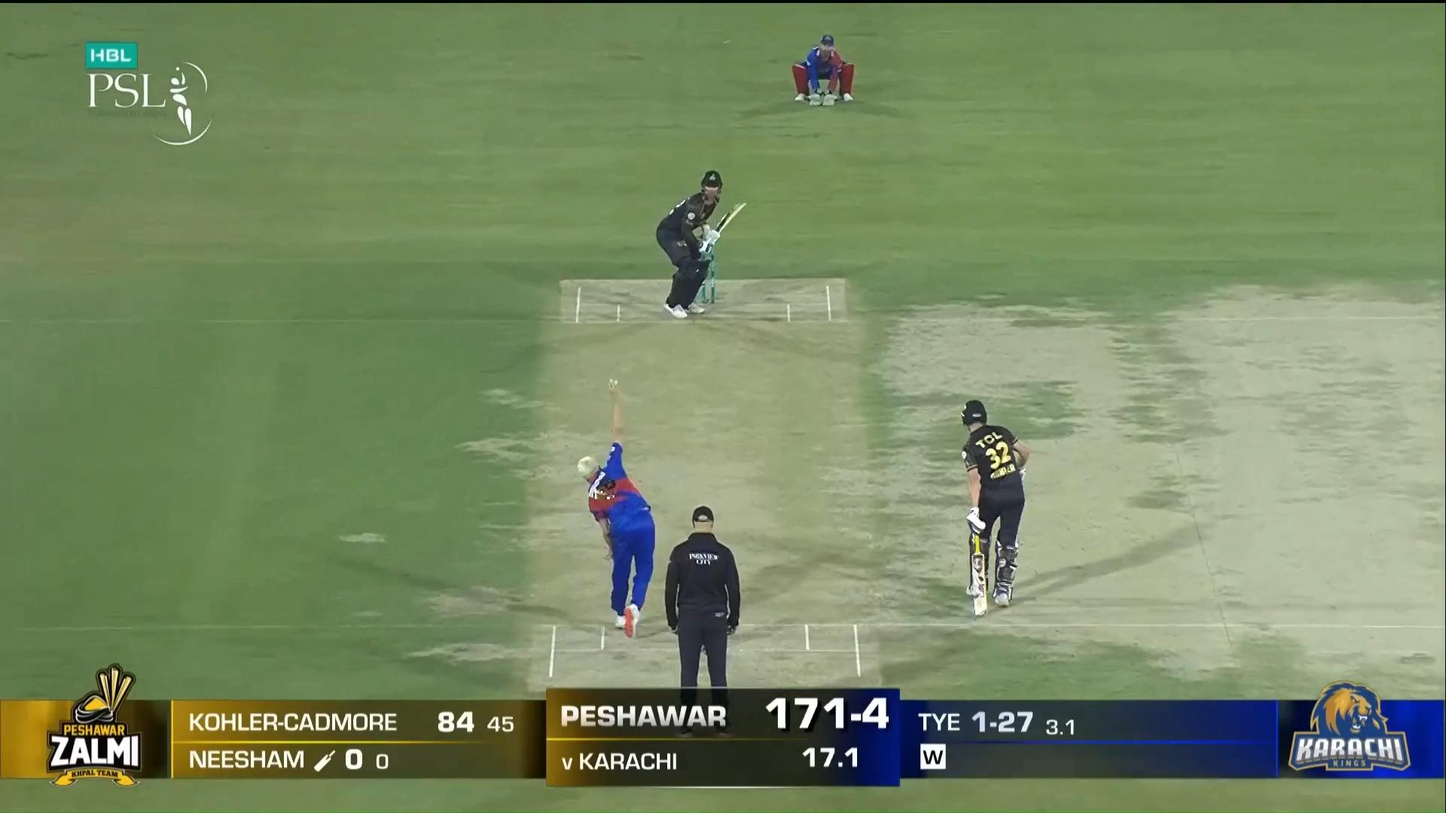batsman: (656, 170, 724, 320)
